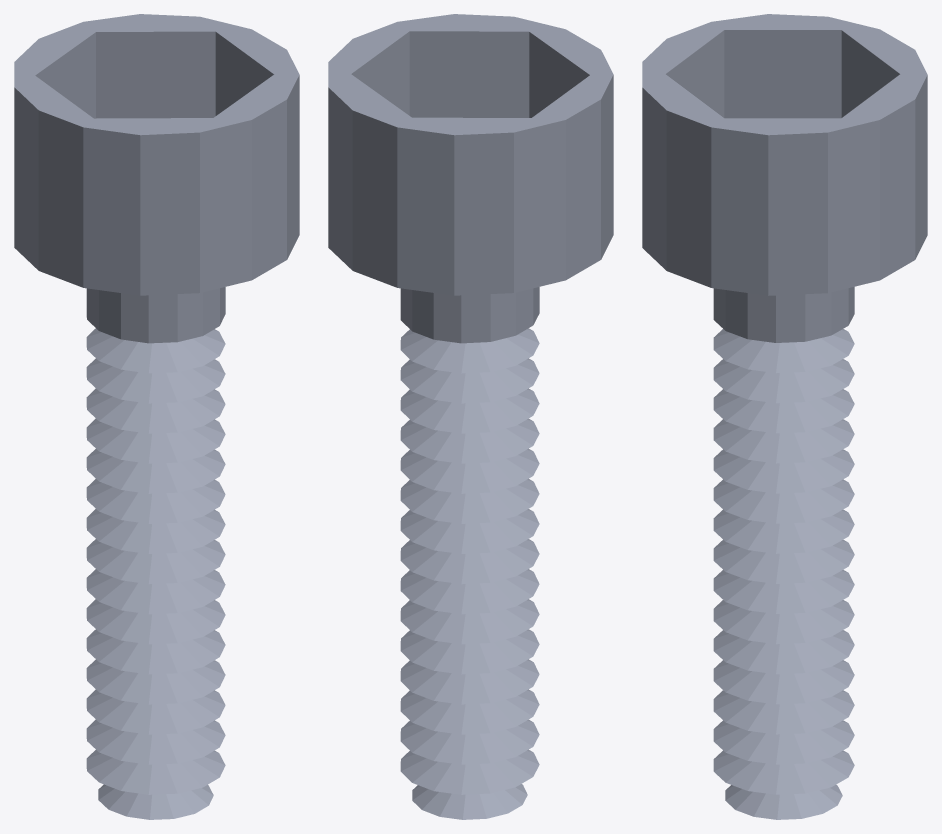
File: HexSocket.glb
3 views of the same model, side by side, from view 1: azimuth 30°, elevation 25°; view 2: azimuth 150°, elevation 25°; view 3: azimuth 270°, elevation 25° (orthographic).
Visible parts, largest first — view 1: HexSocket.007; view 2: HexSocket.007; view 3: HexSocket.007.
Part boxes in pixels (x1,y1,x2,y2): HexSocket.007: (14, 14, 299, 819); HexSocket.007: (328, 14, 613, 819); HexSocket.007: (642, 14, 927, 819).
Bounding box in the file's own units: 0.3344 × 0.9385 × 0.3327.
1 material, 1 textured.
